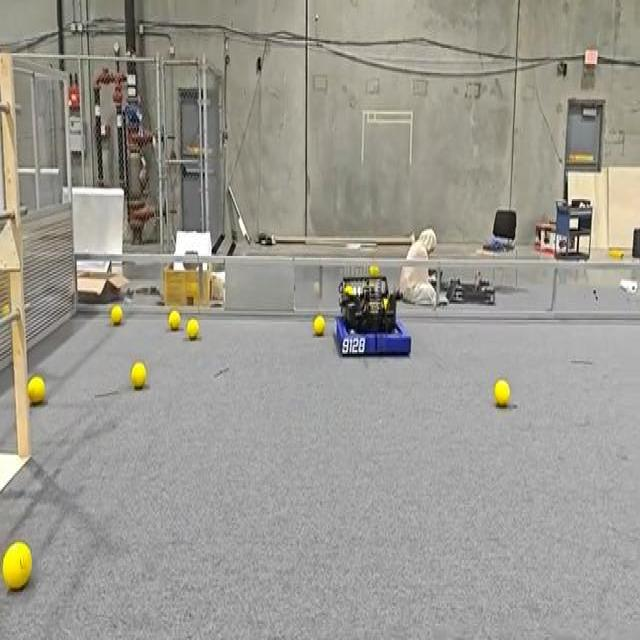Fuel: (2, 542, 31, 591), (2, 542, 31, 588), (27, 375, 45, 404), (130, 363, 147, 389), (494, 379, 510, 405), (186, 318, 198, 340), (168, 309, 180, 329), (110, 306, 122, 324), (313, 315, 324, 334)
